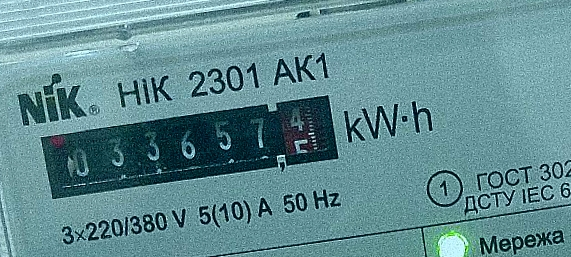0: (68, 141, 93, 181)
3: (105, 133, 128, 170), (140, 127, 163, 164)
4: (285, 102, 308, 134)
5: (209, 115, 236, 154)
6: (174, 125, 199, 162)
7: (246, 113, 269, 151)
screen: (27, 85, 348, 209)
